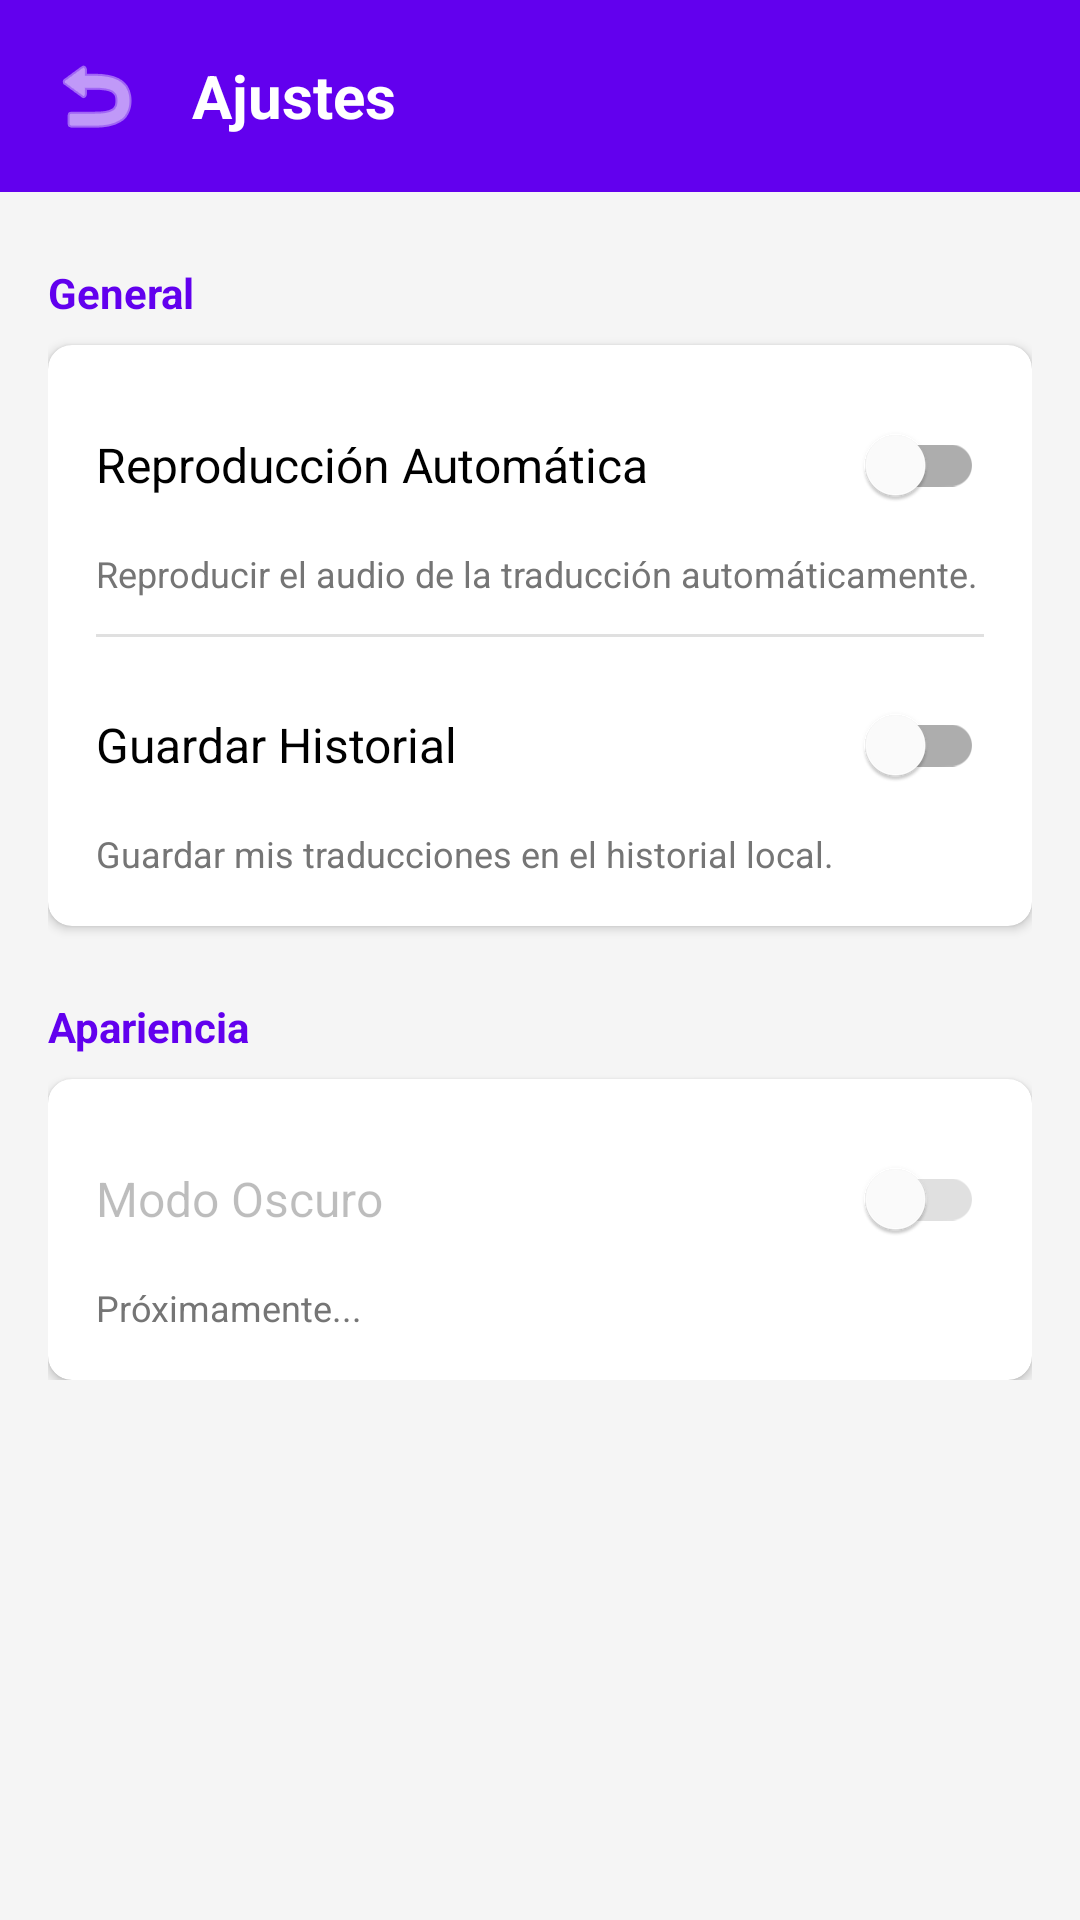

Screen size 1080×1920. Icon name, then its box in pixels as (x1, y1, x2, y2):
Volver: (63, 65, 132, 128)
